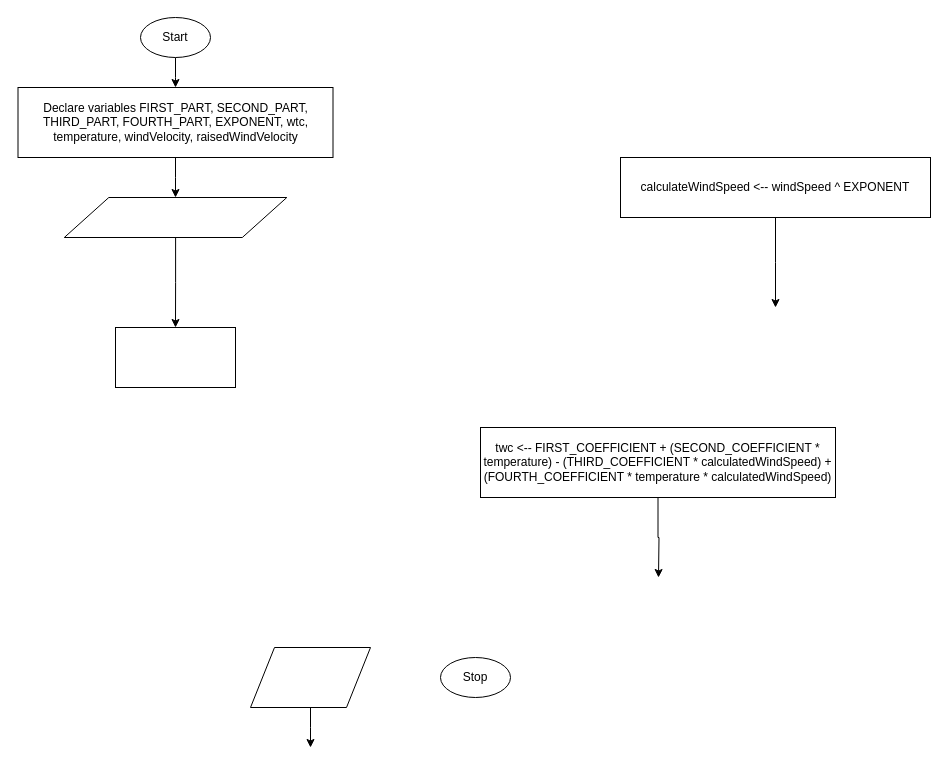
The diagram is 948 pixels wide and 773 high, and some of its shapes have lost their labels. Here are the shapes that lost their labels. From the top down, the centre of each, then its label:
pixel 175 217: Ask user for temperature
pixel 310 677: Display twc
